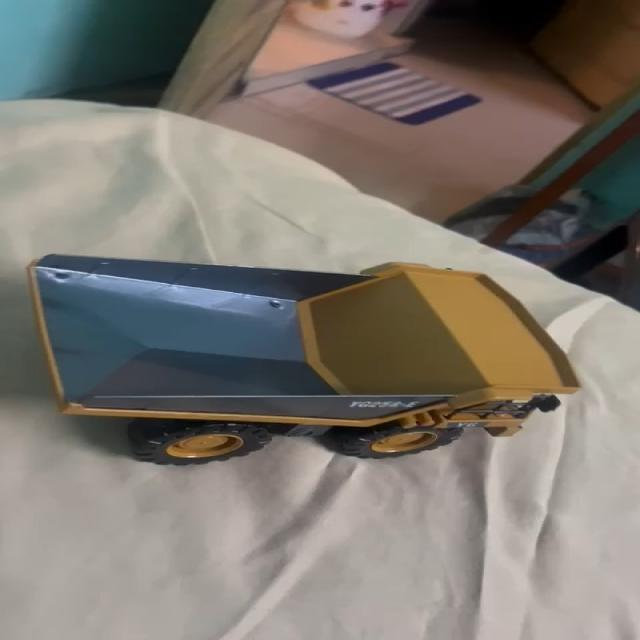dump_truck: (16, 246, 592, 474)
